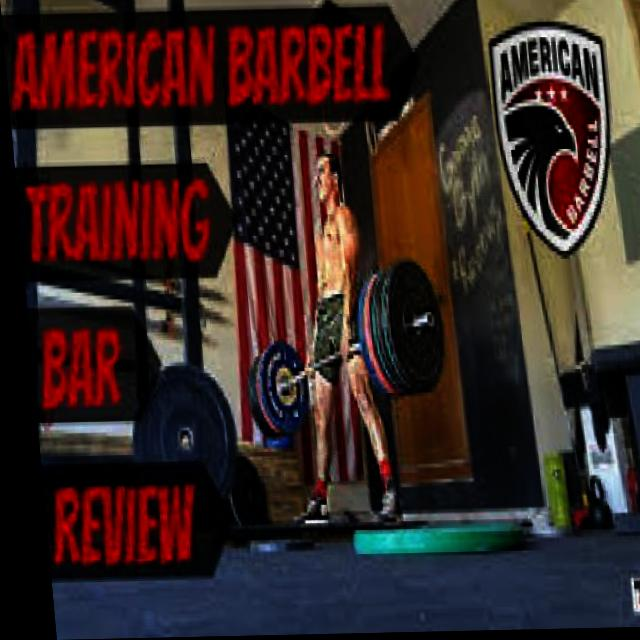barbell: (374, 260, 445, 399)
